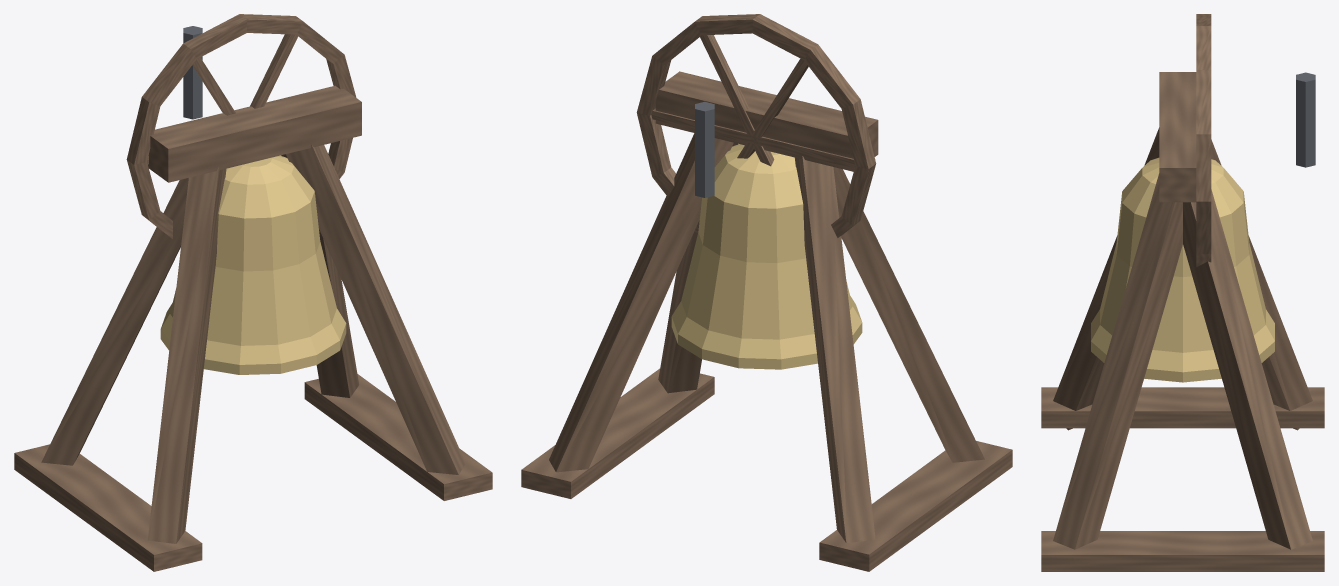
The model's file is vampire-crypt-and-gothic-cathedral-bell-37481fdf__23017.glb.
The picture shows the model from 3 angles, left to right: view 1: azimuth 30°, elevation 25°; view 2: azimuth 150°, elevation 25°; view 3: azimuth 270°, elevation 25°; orthographic projection. The views are drawn at different scales.
Parts seen in each view (by area): view 1: bell; view 2: bell; view 3: bell.
Part boxes in pixels (bbox=[...]): bell: bbox=[14, 14, 492, 571]; bell: bbox=[521, 14, 1012, 571]; bell: bbox=[1041, 14, 1324, 571].
Bounding box in the file's own units: 2.1 × 2.73 × 1.5.
3 materials, 1 textured.
